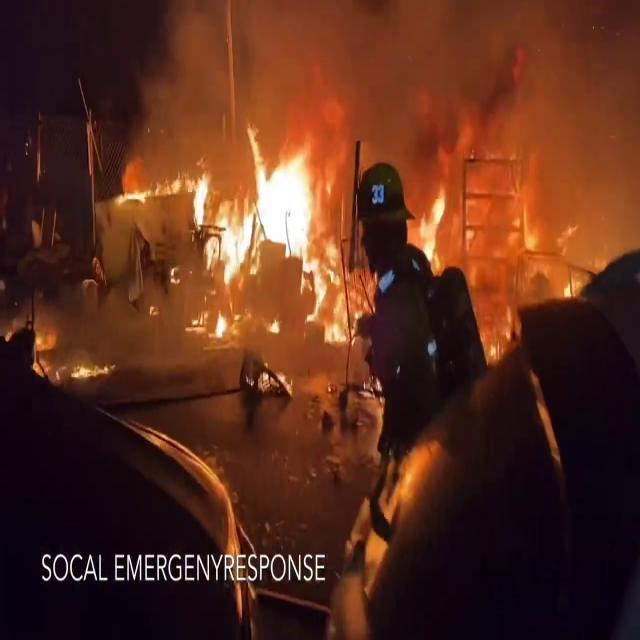Fire: (182, 132, 348, 338)
Smoke: (119, 0, 638, 154)
